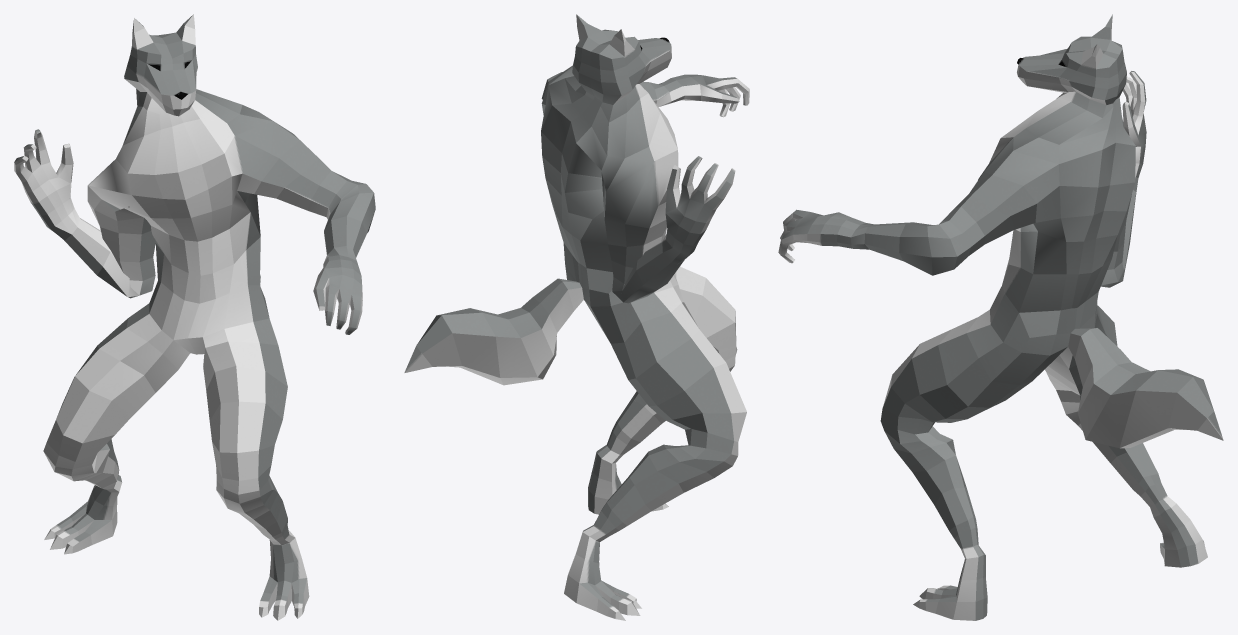
File: WolfDead(6).obj
3 renders of one model, left to right at view 1: azimuth 30°, elevation 25°; view 2: azimuth 150°, elevation 25°; view 3: azimuth 270°, elevation 25°, orthographic. The views are drawn at different scales.
Visible parts, largest first — view 1: Box001; view 2: Box001; view 3: Box001.
Boxes of the visible parts, box(x1,y1,x2,y2) form: Box001: box(14, 14, 375, 620); Box001: box(404, 14, 749, 620); Box001: box(778, 14, 1223, 620).
Bounding box in the file's own units: 75.45 × 144 × 104.
